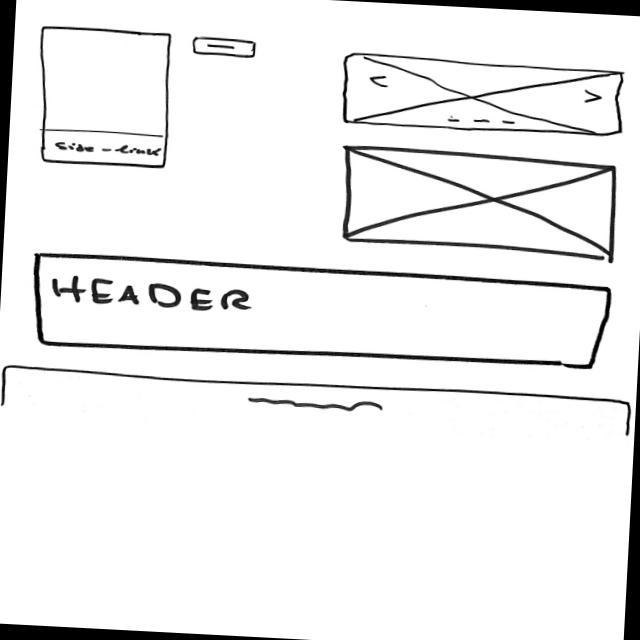container: (28, 250, 612, 374), (34, 24, 174, 170)
icon-button: (191, 35, 256, 59)
image: (337, 143, 622, 263), (342, 49, 630, 140)
label: (46, 274, 255, 314), (52, 137, 160, 160)
text: (245, 393, 384, 417)
